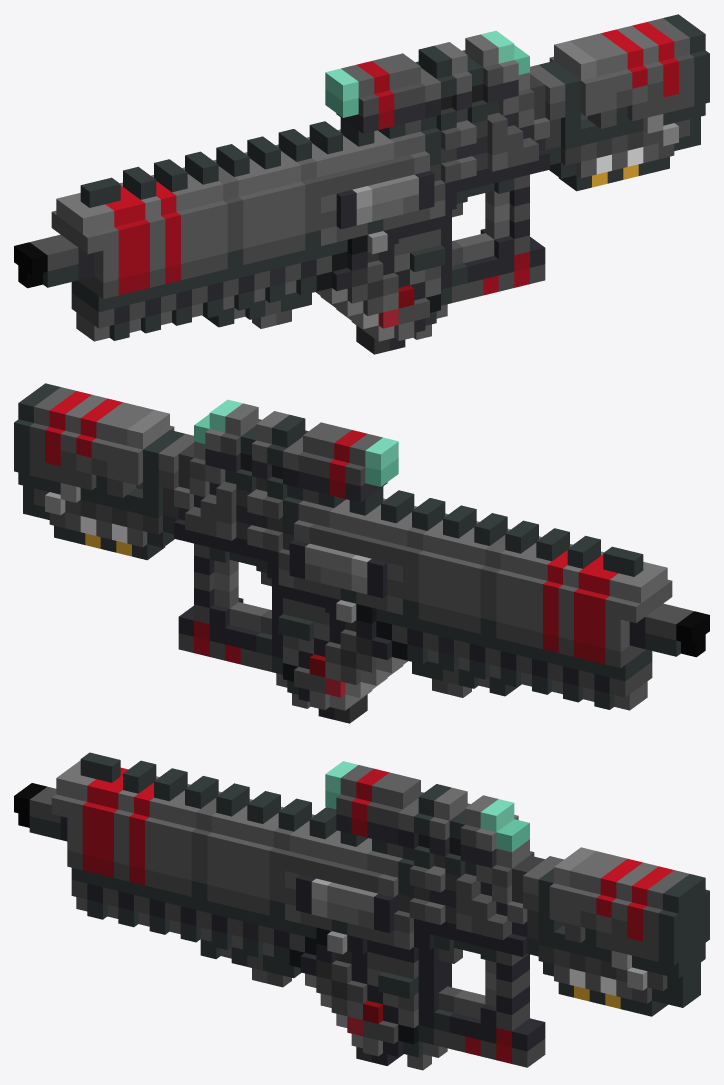
File: AR_HFG_Reiltas.obj
3 renders of one model, top to bottom at view 1: azimuth 30°, elevation 25°; view 2: azimuth 150°, elevation 25°; view 3: azimuth 330°, elevation 25°, orthographic.
Size of the model in its own units: 43 by 17 by 5.
